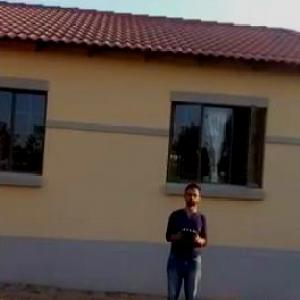follow: (156, 179, 211, 299)
